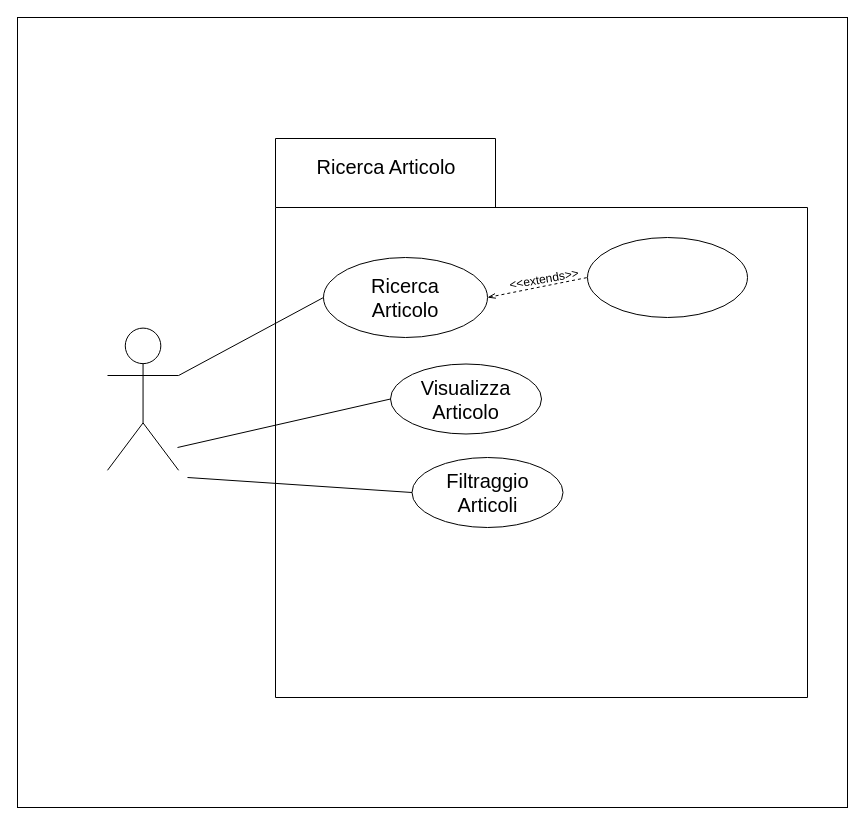
Image size: 865x825. Some labels were removed from this diagram. Each missing label, with the centre of its shape:
"Articolo non presente" goes at point (667, 277).
"Utente" goes at point (142, 398).
